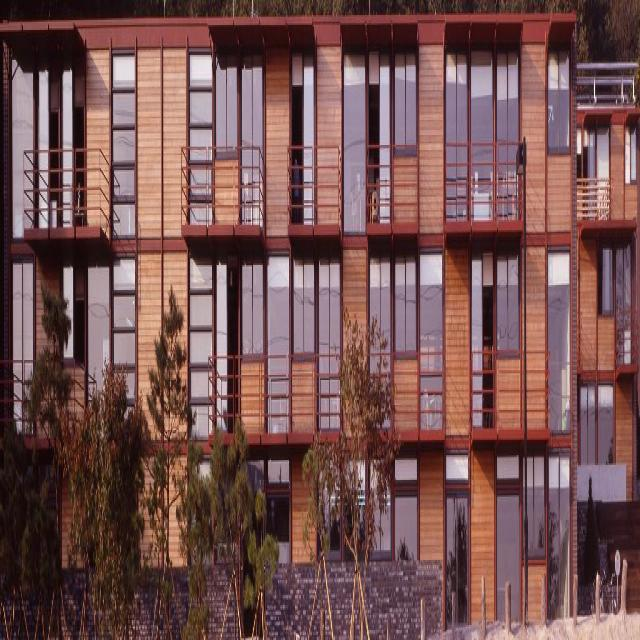Railing: (209, 349, 446, 433), (25, 145, 121, 237), (182, 143, 265, 239), (446, 142, 524, 218), (472, 353, 551, 427), (288, 146, 343, 229), (367, 142, 419, 220), (578, 176, 614, 218)
door: (445, 493, 469, 626)
plant: (4, 263, 287, 630), (302, 292, 398, 631)
wall: (0, 7, 640, 638)
windows: (446, 46, 520, 141), (89, 260, 136, 392), (113, 53, 137, 235), (548, 250, 572, 430), (345, 50, 367, 232), (549, 448, 572, 620), (191, 258, 213, 435), (13, 62, 35, 228), (14, 258, 34, 430), (580, 384, 614, 461), (420, 249, 444, 351), (548, 48, 571, 152), (616, 243, 634, 362), (191, 48, 213, 145), (268, 255, 290, 352), (370, 254, 392, 349), (498, 254, 520, 348), (396, 52, 418, 142), (320, 258, 341, 351), (578, 125, 611, 183), (294, 258, 315, 349), (244, 261, 264, 355), (472, 258, 483, 353), (64, 265, 75, 352), (217, 265, 228, 352), (600, 244, 615, 307), (304, 61, 315, 146), (40, 66, 50, 148), (64, 63, 73, 143)
